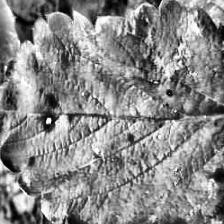Leaf Spot: (0, 0, 224, 224), (149, 111, 224, 224), (169, 0, 224, 115)
